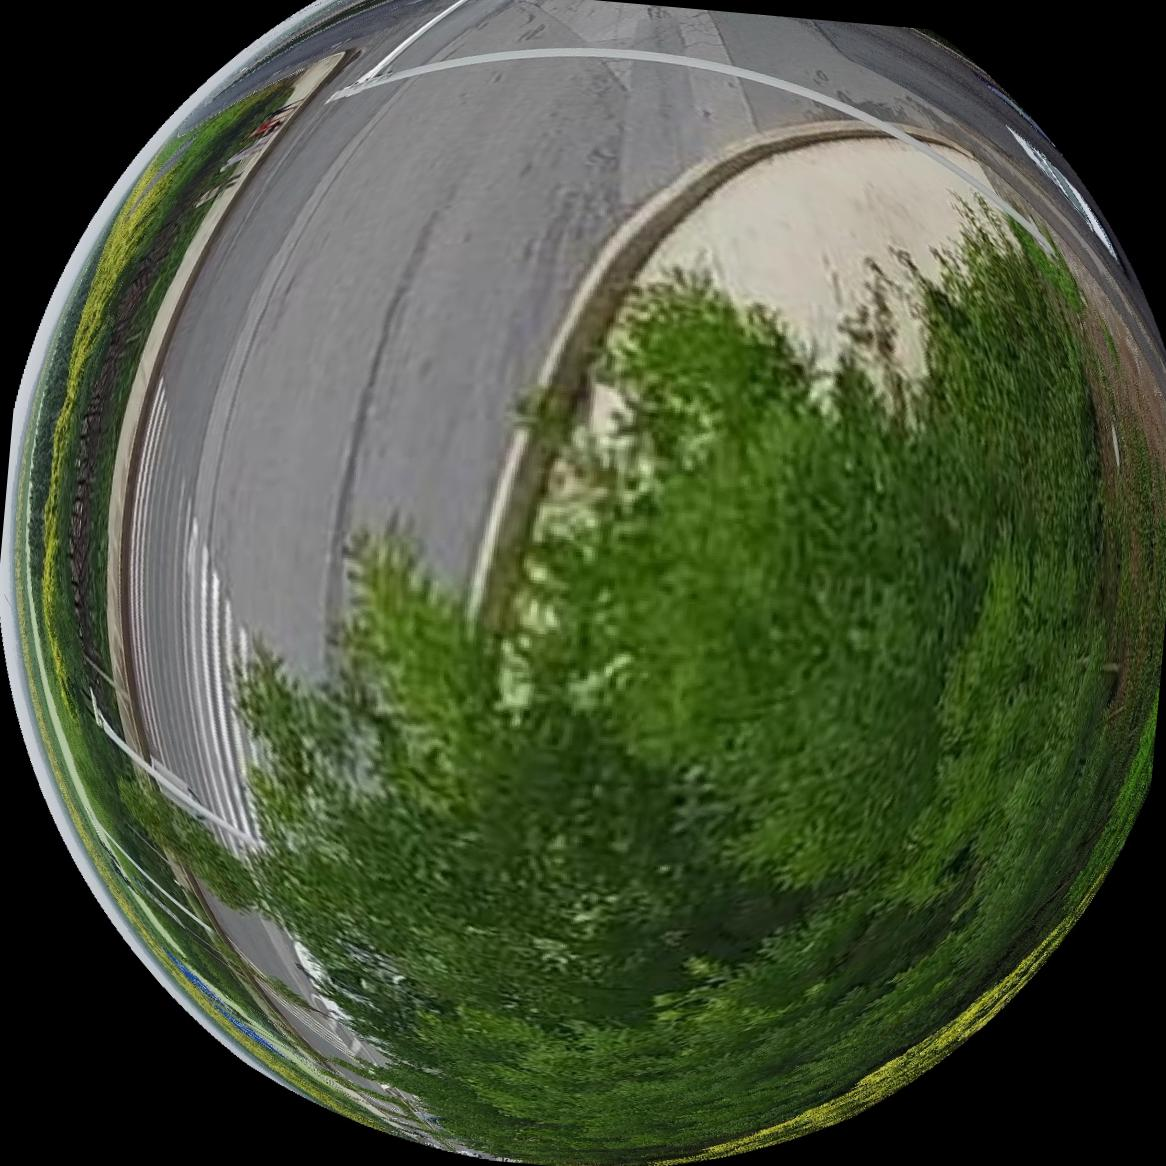trees: (239, 207, 1166, 1163), (0, 78, 293, 981), (117, 774, 261, 911)
